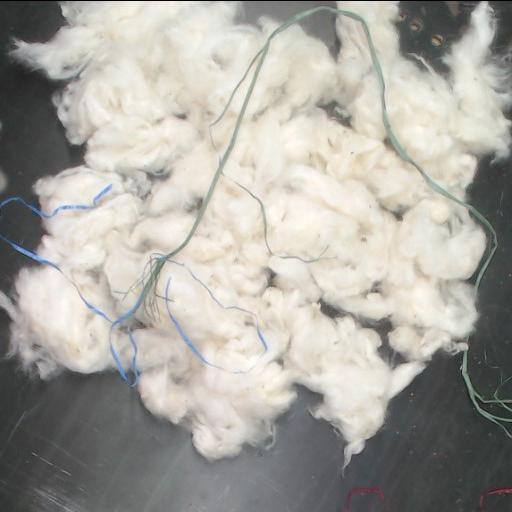cotton: (0, 1, 511, 466)
thread: (67, 6, 496, 369), (460, 352, 511, 437), (0, 184, 111, 218)
